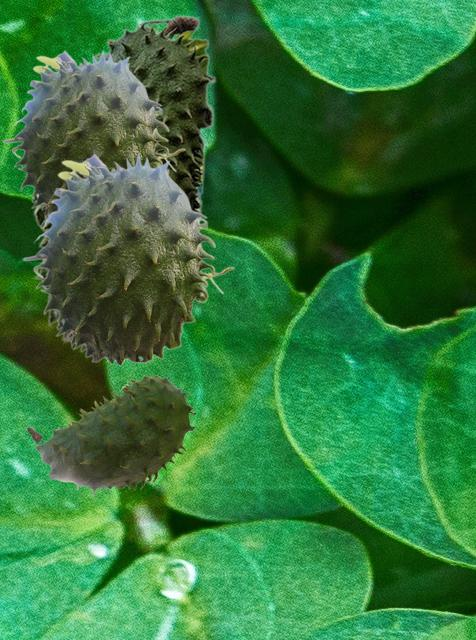guyabano: (32, 14, 215, 343), (22, 151, 234, 366), (2, 48, 185, 219), (26, 375, 195, 496)
